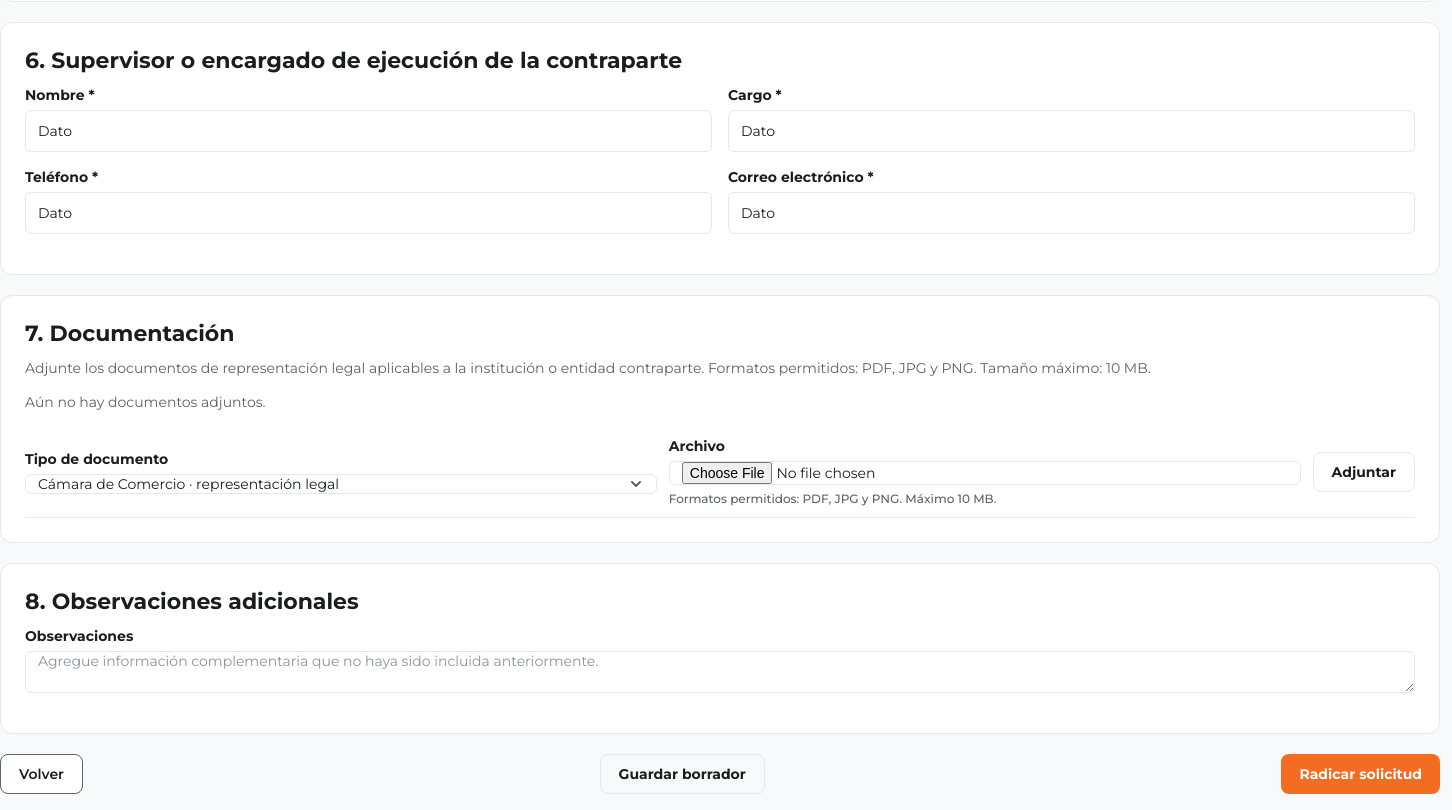
it: país persistido con catálogo asíncrono › BORRADOR conserva Alemania y radica sin reseleccionarla cuando llega primero solicitud
The image size is (1452, 810).
(page scrolled)
Replace the text in the text box labelled "Observaciones" with "Ajuste del solicitante" at (720, 672), box [25,651,1415,693]
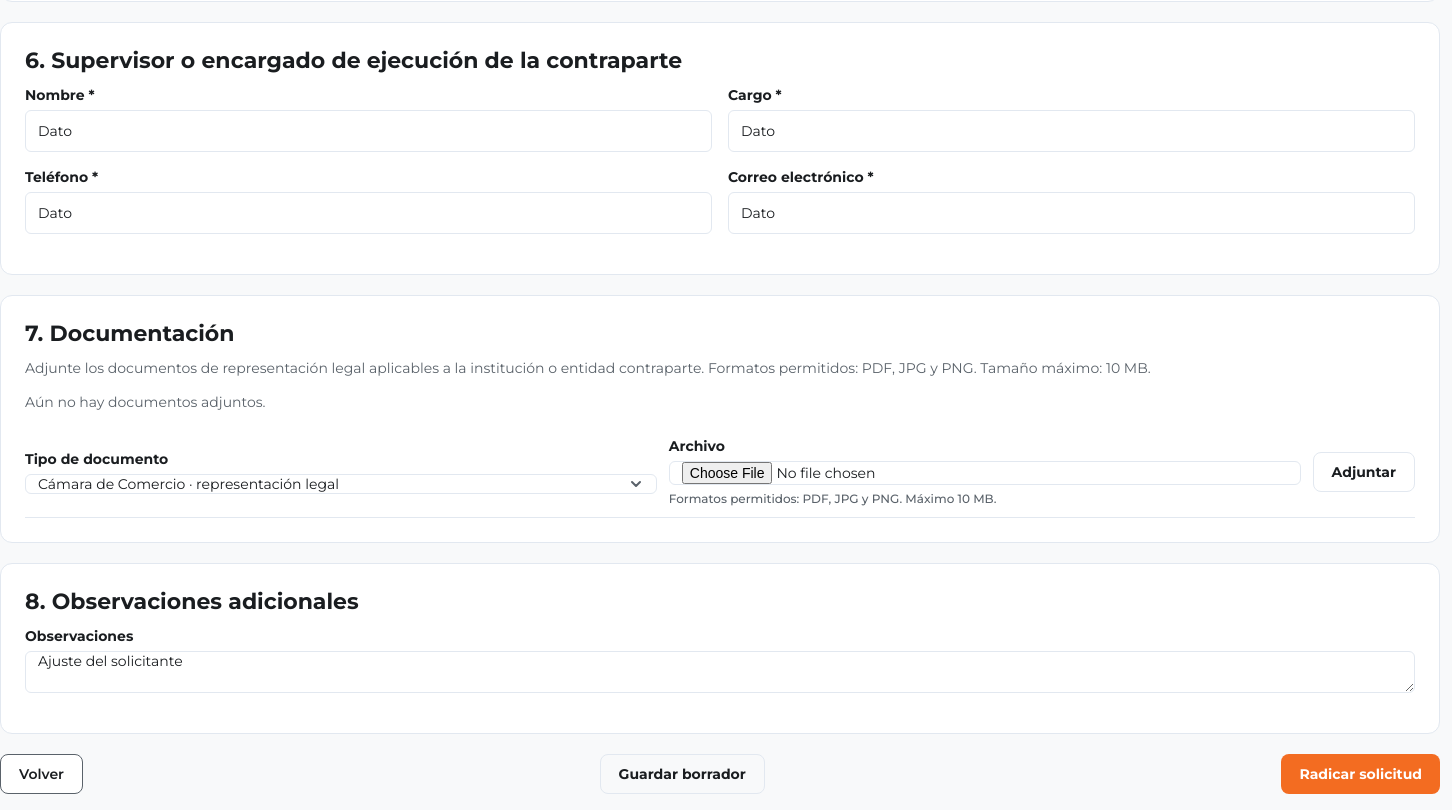
Click the button "Radicar solicitud" at (1361, 774), box [1281,754,1440,794]
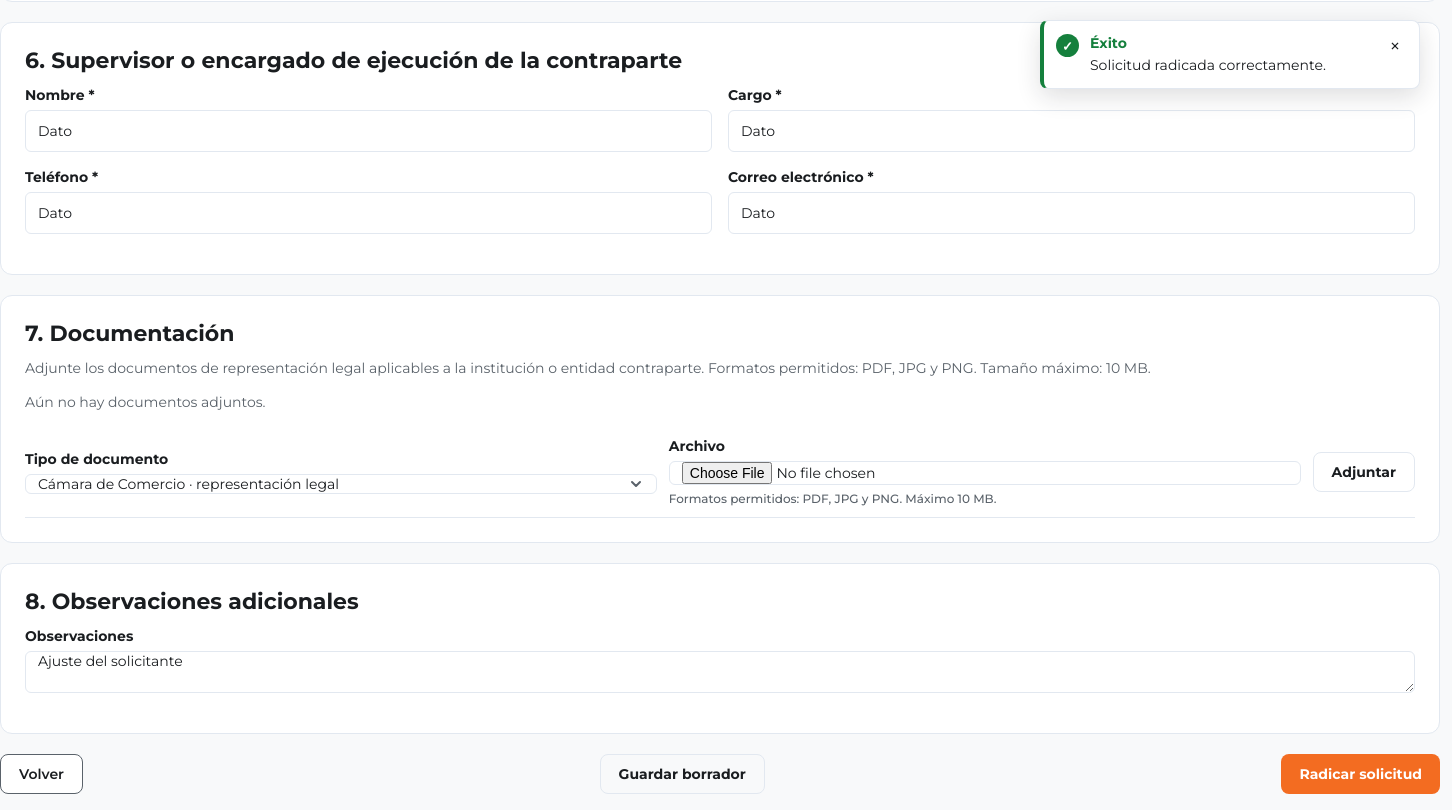
Now the text "Solicitud radicada correctamente." is shown, box [1090,56,1326,74]
